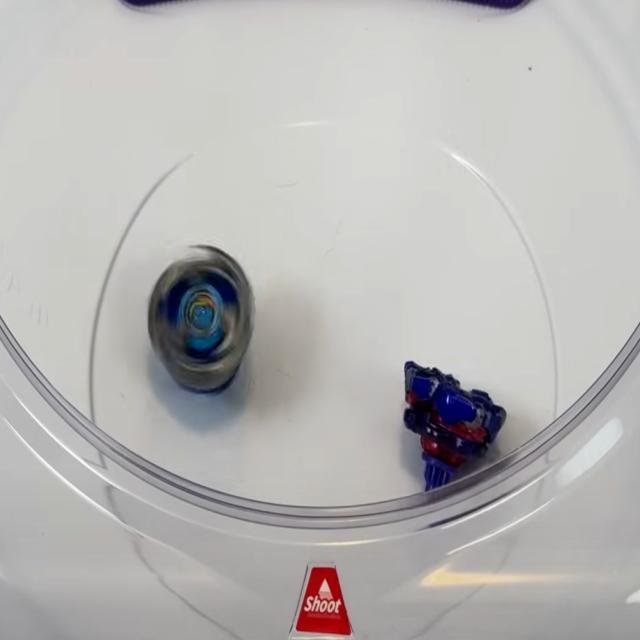Beyblade: (147, 246, 253, 394), (402, 362, 505, 490)
